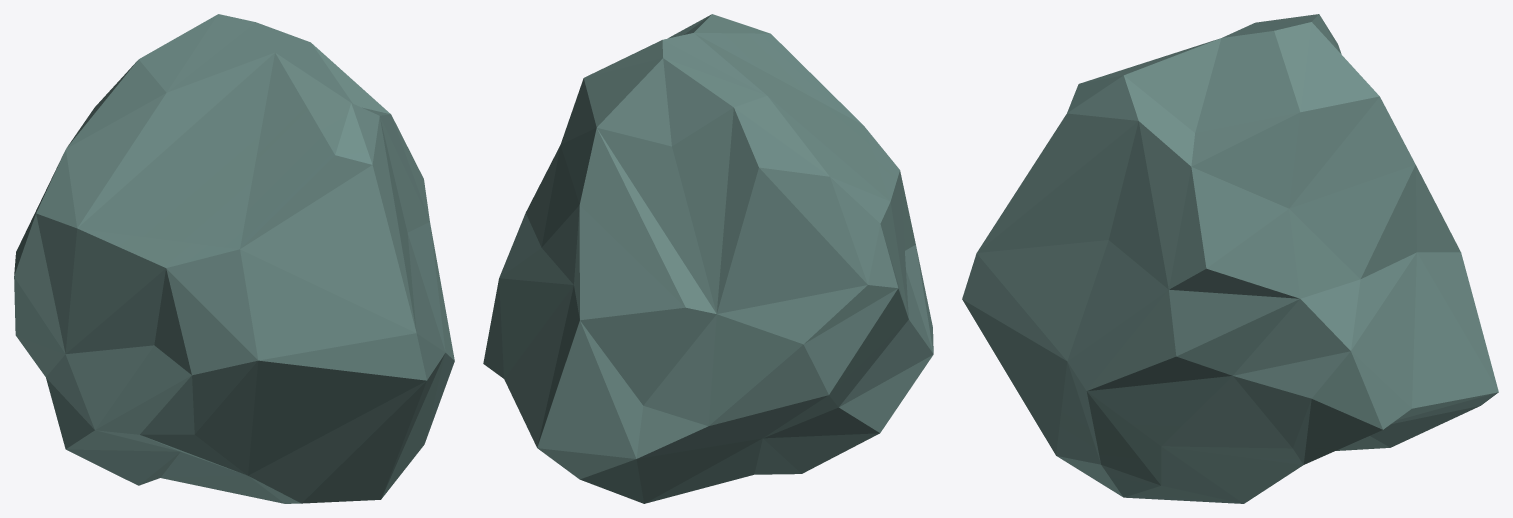
Rendered from SM_rock4.fbx.
The picture shows the model from 3 angles, left to right: view 1: azimuth 30°, elevation 25°; view 2: azimuth 150°, elevation 25°; view 3: azimuth 270°, elevation 25°; orthographic projection. The views are drawn at different scales.
Visible parts, largest first — view 1: SM_rock4; view 2: SM_rock4; view 3: SM_rock4.
Boxes of the visible parts, left/top/right/bottom form: SM_rock4: left=14, top=14, right=454, bottom=503; SM_rock4: left=483, top=14, right=933, bottom=503; SM_rock4: left=962, top=14, right=1498, bottom=503.
Bounding box in the file's own units: 273 × 293 × 327.
